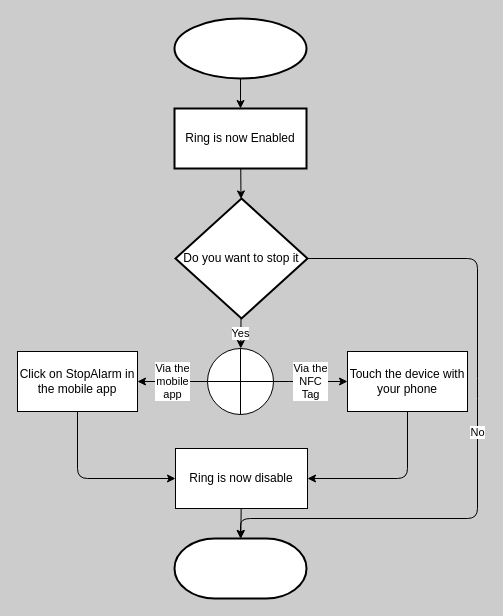
This 503x616 diagram has some shape labels left out. Each missing label, with the centre of its shape:
End: (x=240, y=568)
Start: (x=240, y=48)
